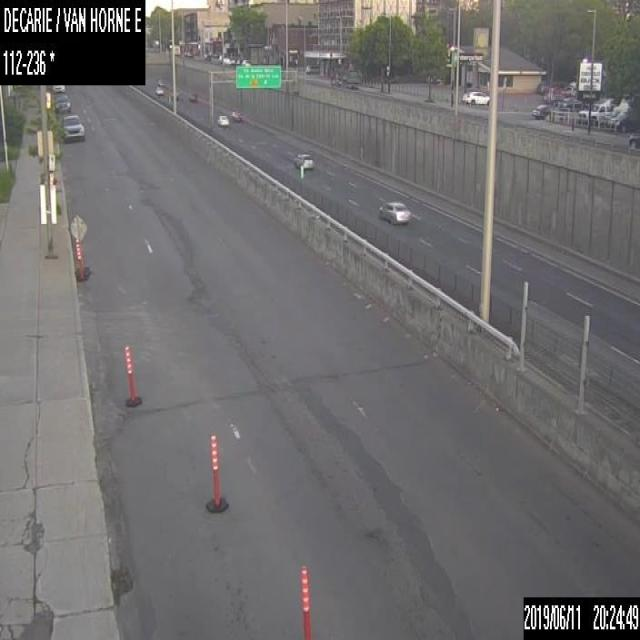construction: (205, 434, 229, 514), (123, 342, 142, 407), (297, 562, 312, 638), (74, 233, 88, 279)
vehicle: (376, 200, 409, 224), (578, 102, 611, 124), (62, 114, 86, 142), (461, 90, 489, 105), (55, 91, 71, 112), (294, 152, 313, 169), (530, 104, 550, 118), (627, 133, 639, 147), (50, 84, 64, 94), (217, 114, 228, 126), (306, 64, 318, 74), (154, 85, 164, 95), (231, 110, 240, 120), (188, 92, 196, 100)
